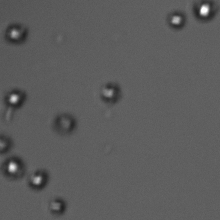Living Cell: (3, 21, 30, 45), (52, 112, 78, 135), (4, 87, 28, 111), (1, 156, 26, 179), (27, 171, 52, 192), (193, 1, 216, 22), (98, 82, 120, 102), (49, 194, 67, 216), (168, 12, 187, 31), (1, 131, 15, 156)
